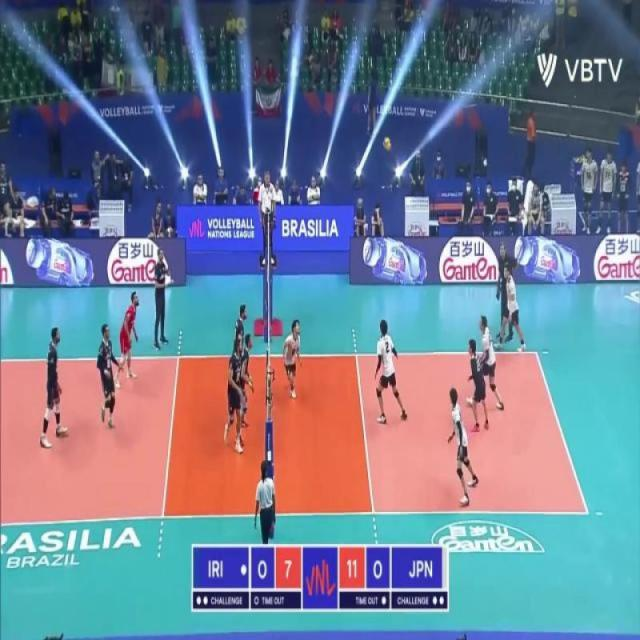volleyball: (383, 138, 391, 152)
